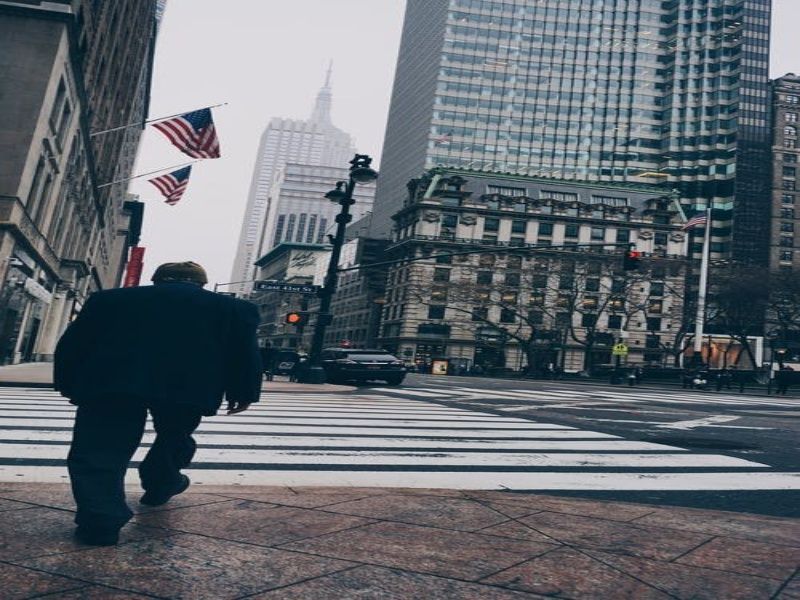zebra cross: (1, 390, 800, 492)
